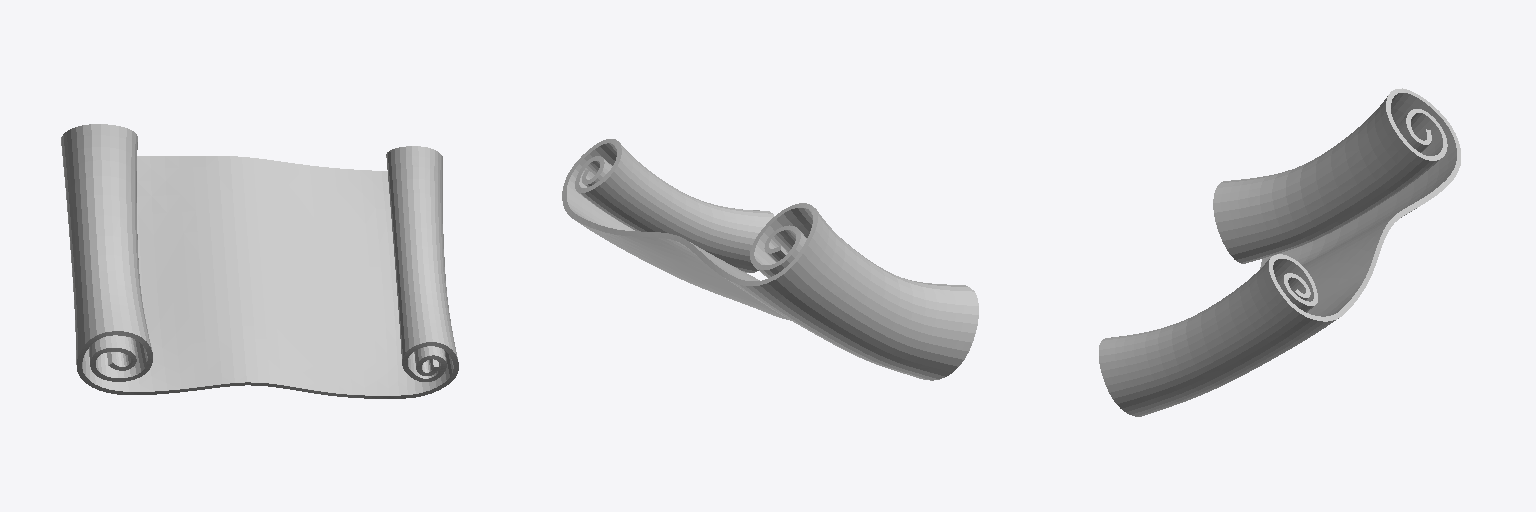
Rendered from scroll.obj.
3 views of the same model, side by side, from view 1: azimuth 30°, elevation 25°; view 2: azimuth 150°, elevation 25°; view 3: azimuth 270°, elevation 25° (orthographic).
Bounding box in the file's own units: 2.05 × 1.18 × 1.67.